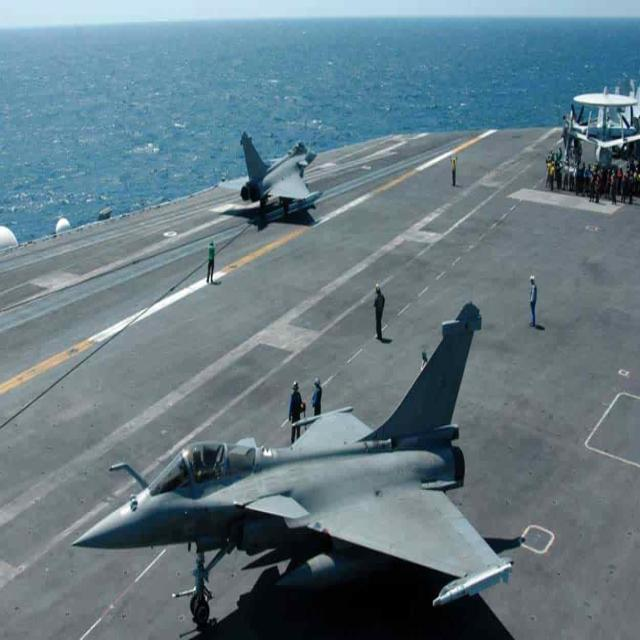MIL_Plane: (70, 301, 515, 623), (217, 131, 323, 216), (46, 34, 123, 116)
